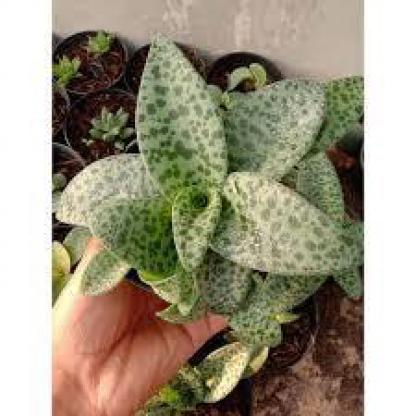Kenanga: (80, 80, 301, 375)
